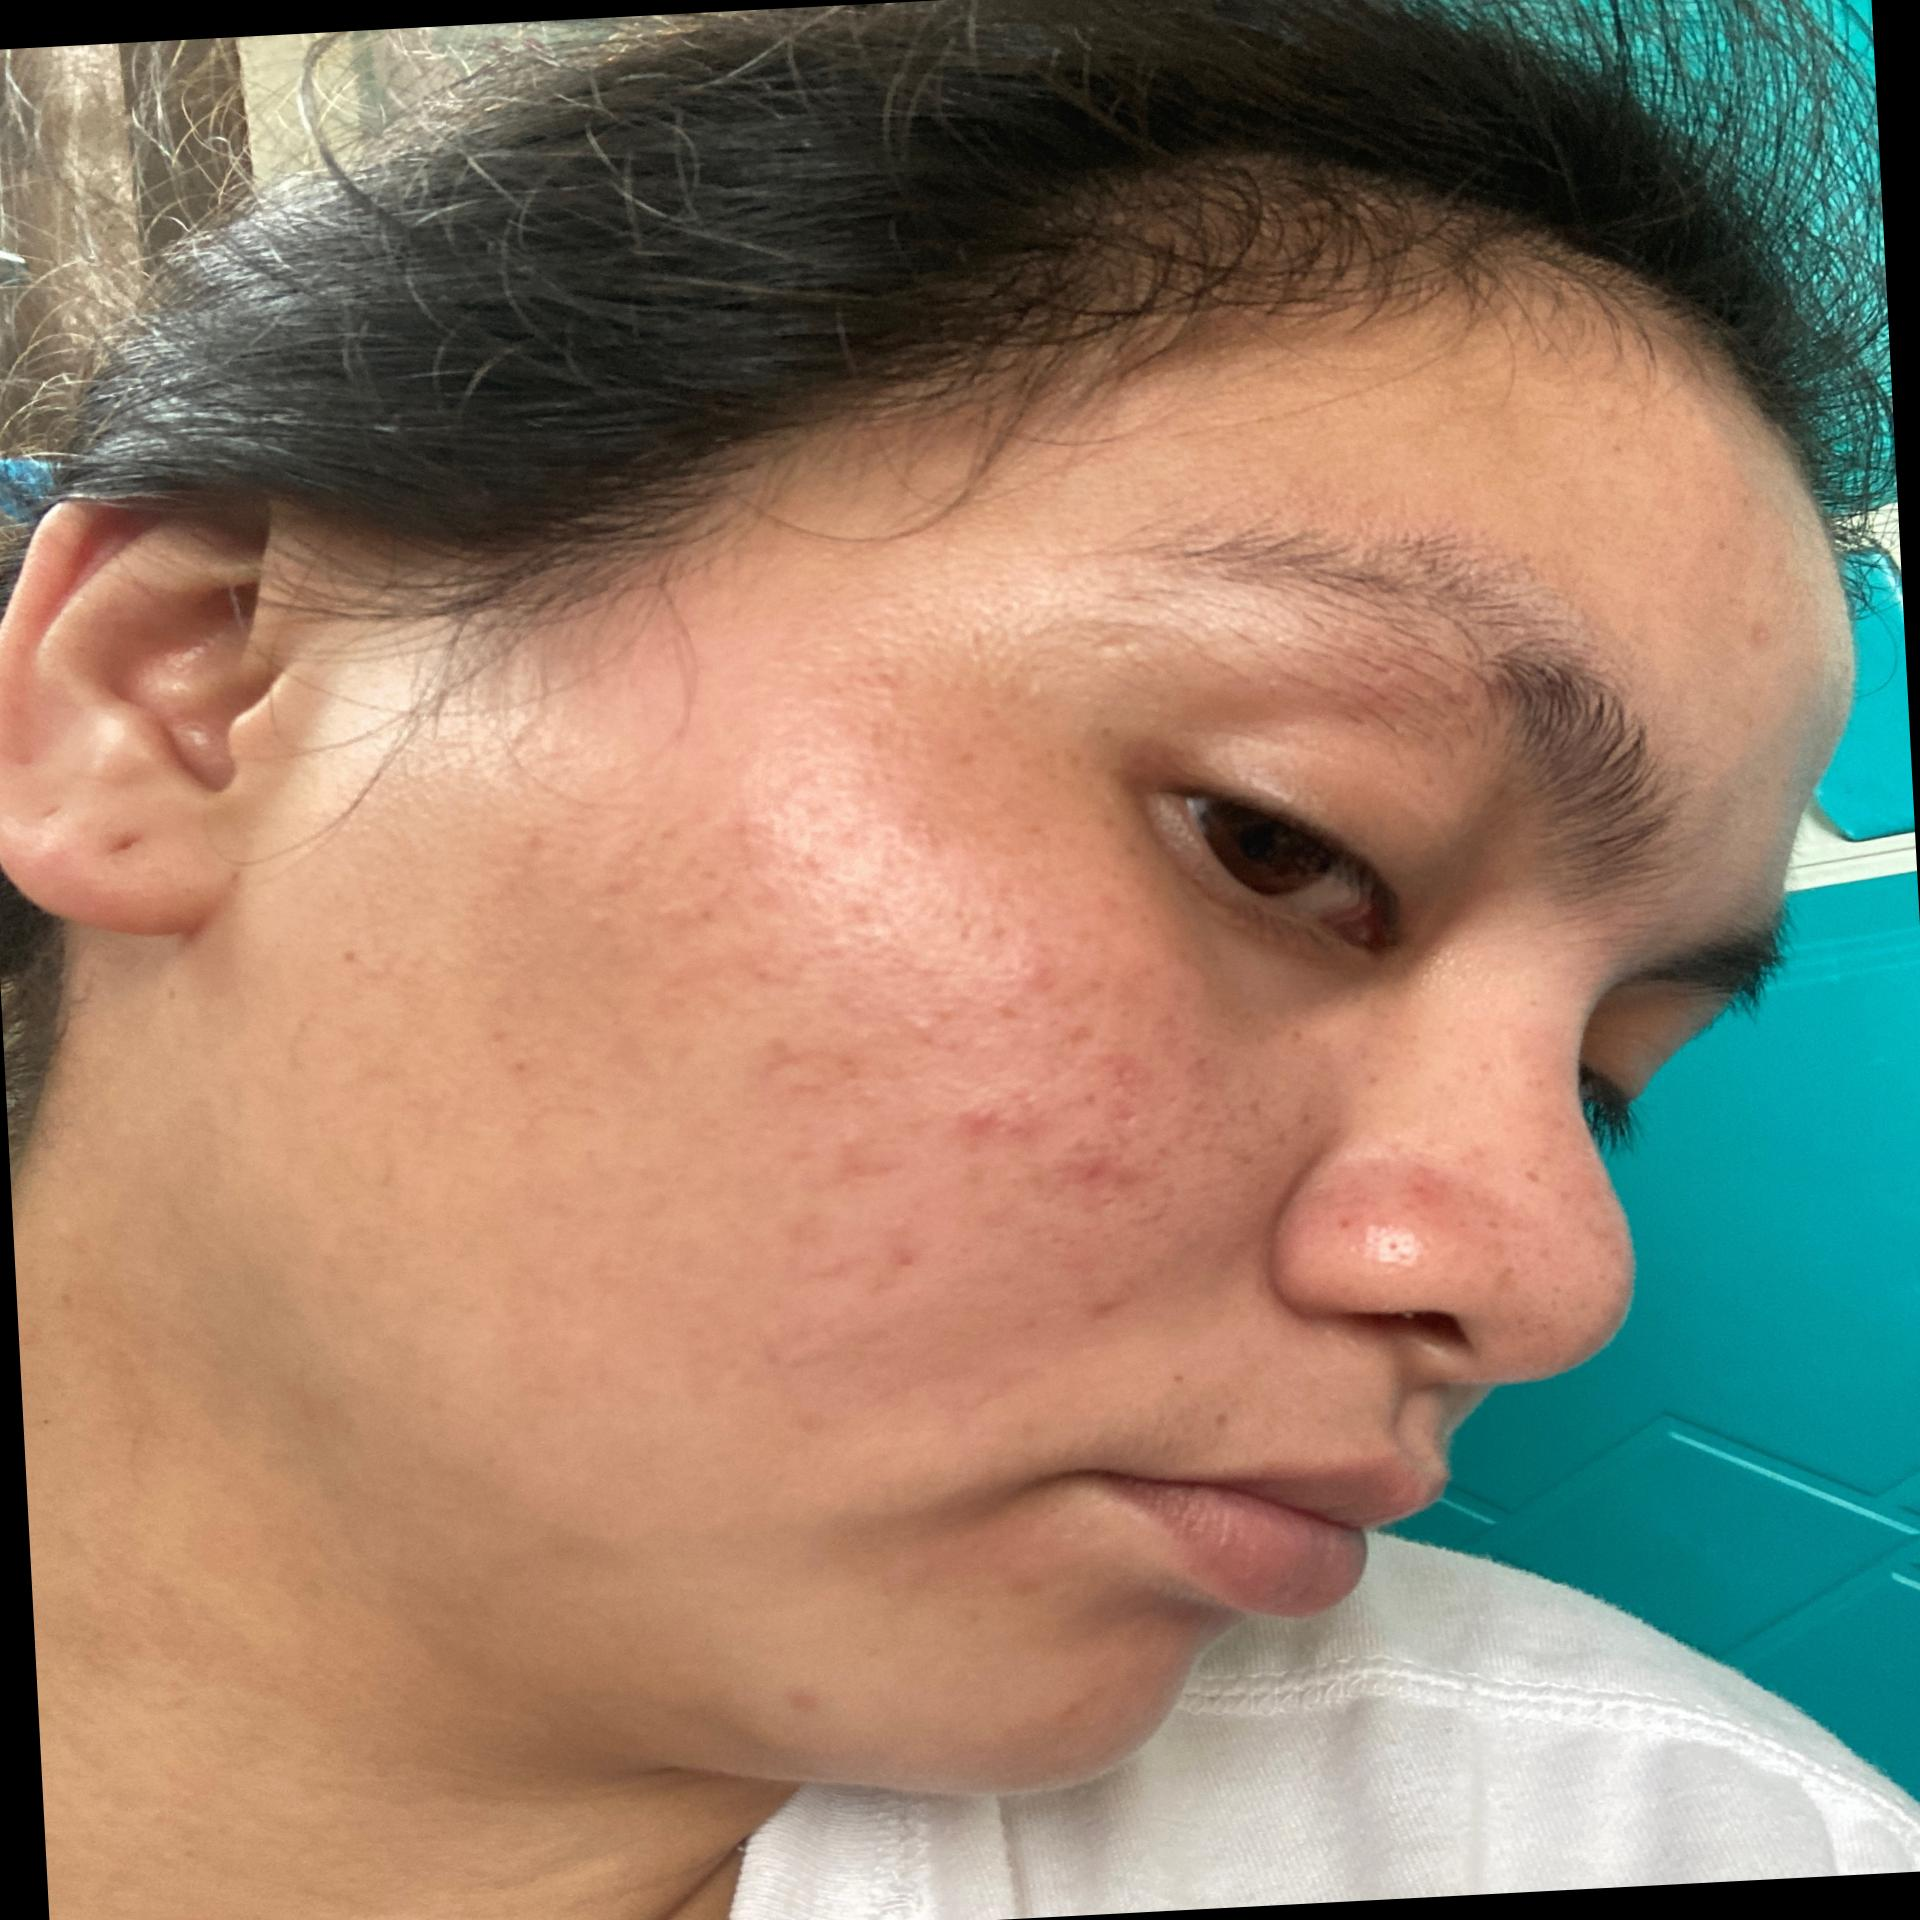Acne: (883, 999, 1180, 1227), (1164, 1027, 1375, 1197), (1417, 1073, 1547, 1294), (1512, 1234, 1635, 1303), (805, 1134, 909, 1192), (735, 1027, 826, 1076), (863, 1234, 942, 1284), (830, 890, 881, 944), (1739, 612, 1781, 668), (696, 802, 802, 821), (730, 865, 788, 900), (768, 1213, 809, 1262), (484, 1050, 522, 1081)
